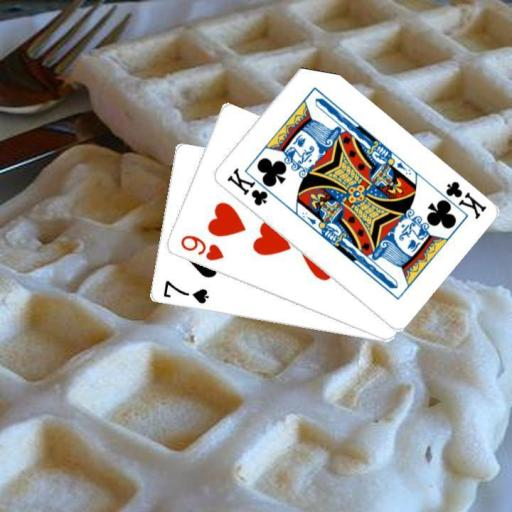card-corner: (223, 164, 279, 208), (432, 178, 488, 220), (159, 277, 210, 306), (176, 232, 225, 262)
